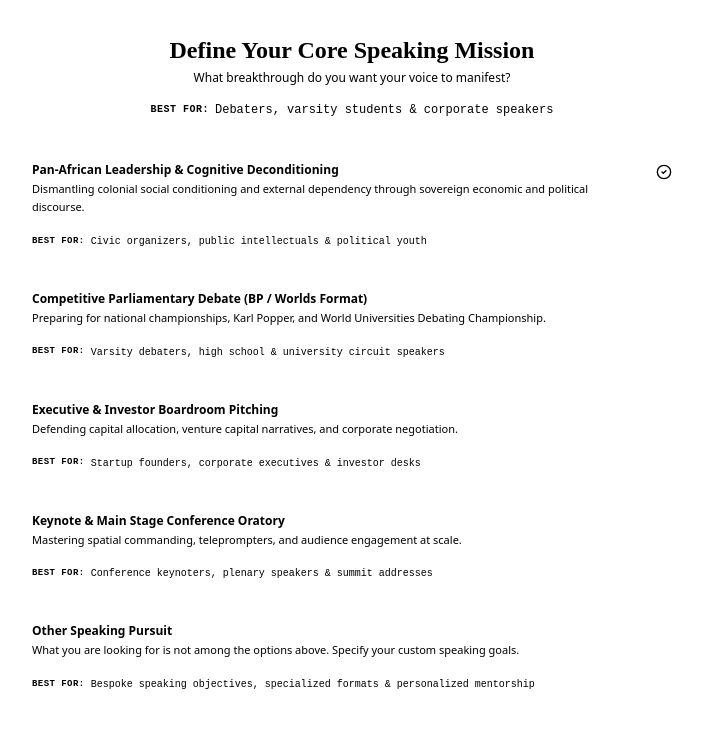
Scenario: Global Orators Landing Page & Features Tests › should render Other option on Step 2 and enable user to provide custom description
// Click "Other Speaking Pursuit"
Click the button "Other Speaking Pursuit" at point(352, 658), box top-left (16, 607), bottom-right (688, 708)
(page scrolled)
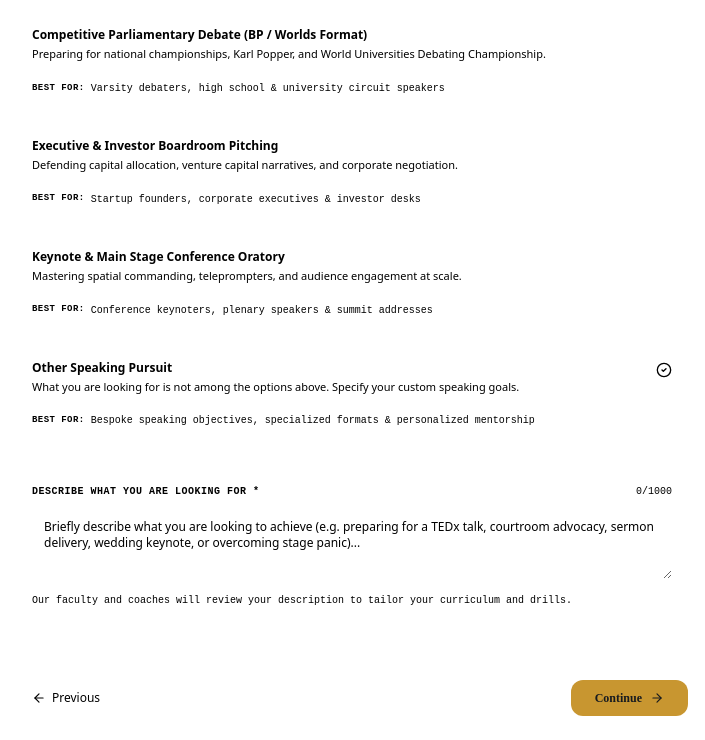
Check: the text "Describe What You Are Looking For *" is shown, box top-left (32, 484), bottom-right (260, 499)
Check: the text box with placeholder "Briefly describe what you are looking to achieve" is shown
// Type custom description
Replace the text in the text box with placeholder "Briefly describe what you are looking to achieve" with "Preparing a TEDx keynote on clean energy policy across Africa" at point(352, 543), box top-left (32, 507), bottom-right (672, 579)
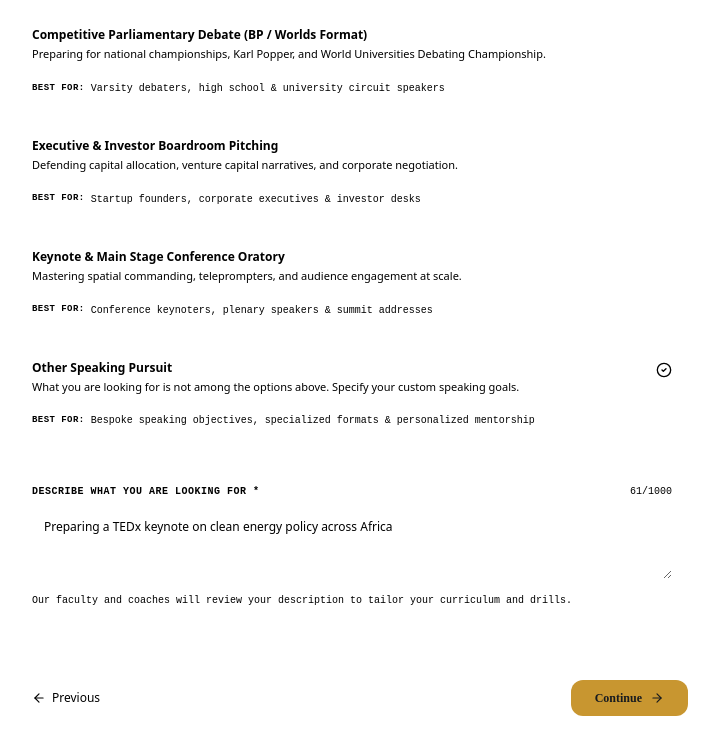
// Click Continue to move to Step 3
Click the button "Continue" at point(629, 698), box top-left (571, 680), bottom-right (688, 716)
(page scrolled)
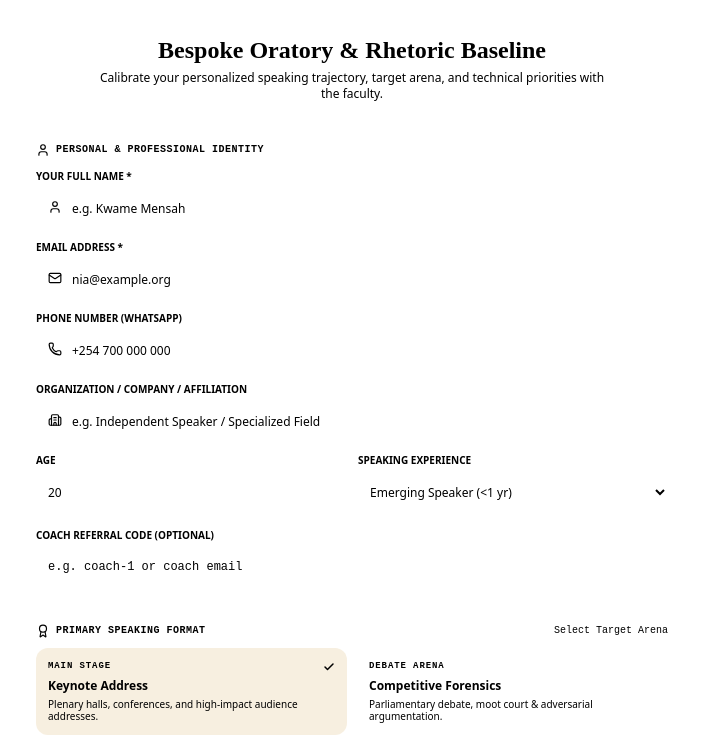
Check: the heading "Bespoke Oratory & Rhetoric Baseline" is shown, box top-left (158, 37), bottom-right (546, 63)
Check: the text "Calibrate your personalized speaking trajectory" is shown, box top-left (100, 69), bottom-right (604, 102)
